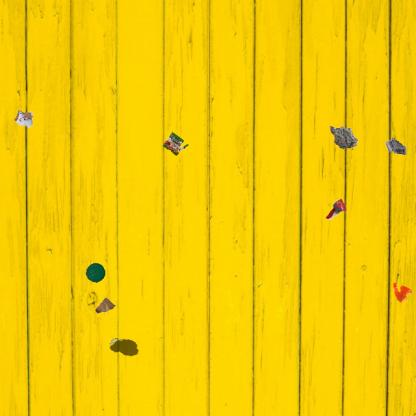dirty: (328, 124, 360, 152), (160, 130, 190, 158), (323, 197, 348, 220), (84, 260, 107, 284), (383, 135, 408, 156), (93, 294, 116, 315), (12, 108, 35, 128)
liquid: (108, 336, 140, 358), (392, 281, 413, 303)
